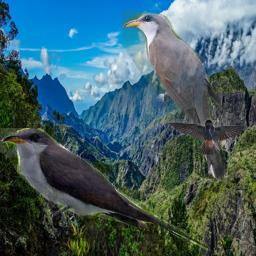Cuckoo: (0, 128, 208, 253), (122, 10, 232, 183)
Swallow: (166, 118, 245, 156)
